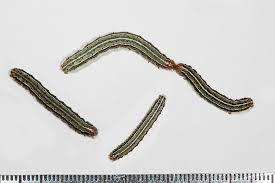fallarmy_worm: (5, 67, 102, 142), (55, 31, 176, 76), (175, 59, 260, 113), (109, 91, 170, 161)
